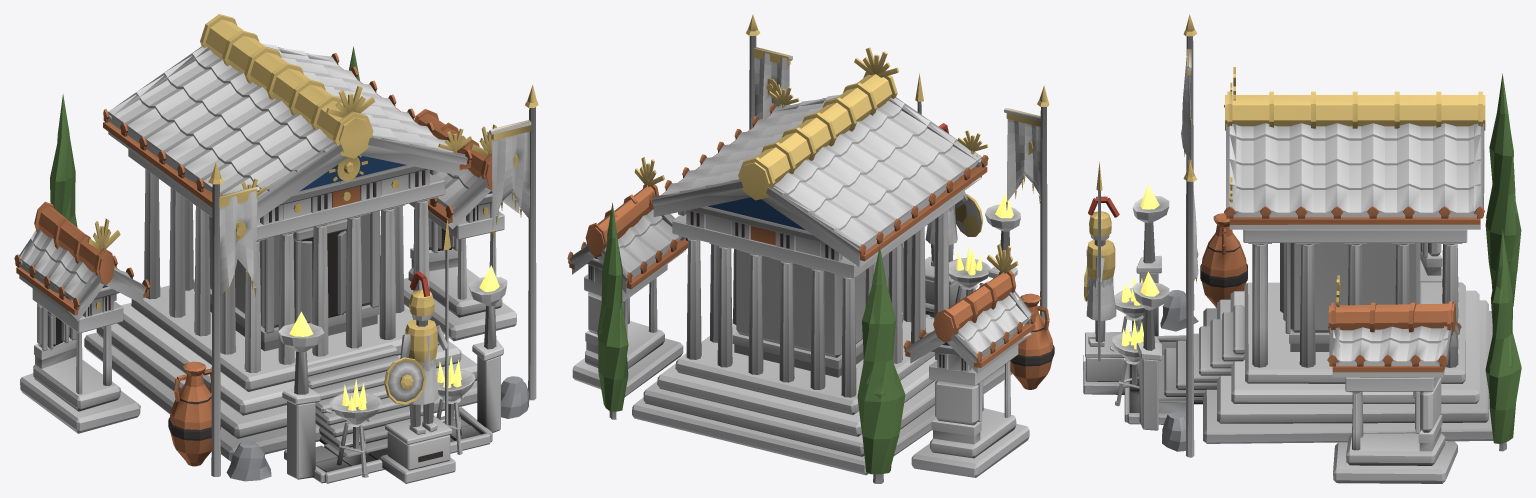
File: polis-hall-l4.glb
The picture shows the model from 3 angles, left to right: view 1: azimuth 30°, elevation 25°; view 2: azimuth 150°, elevation 25°; view 3: azimuth 270°, elevation 25°; orthographic projection. The views are drawn at different scales.
Visible parts, largest first — view 1: polis-hall-l4; view 2: polis-hall-l4; view 3: polis-hall-l4.
Boxes of the visible parts, x1,y1,x2,y2 form: polis-hall-l4: (14, 14, 538, 483); polis-hall-l4: (567, 14, 1054, 483); polis-hall-l4: (1083, 14, 1521, 483).
Bounding box in the file's own units: 1.67 × 1.19 × 1.5.
